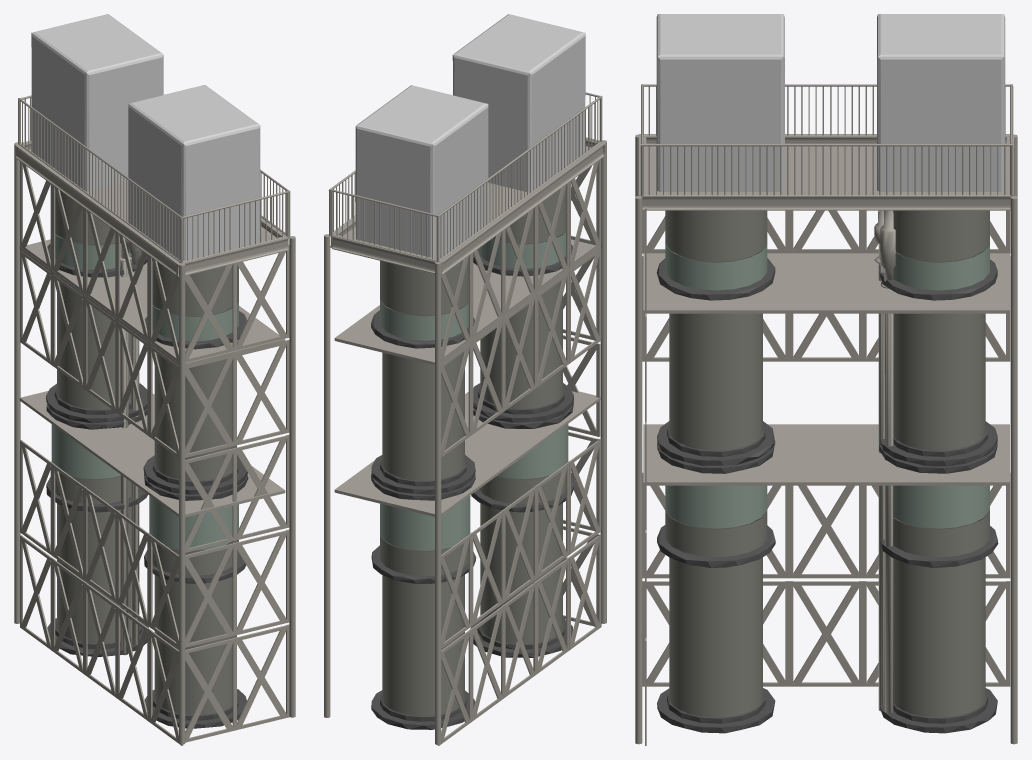
Rendered from large_industrial_tower.fbx.
3 renders of one model, left to right at view 1: azimuth 30°, elevation 25°; view 2: azimuth 150°, elevation 25°; view 3: azimuth 270°, elevation 25°, orthographic. The views are drawn at different scales.
Visible parts, largest first — view 1: large_industrial_tower; view 2: large_industrial_tower; view 3: large_industrial_tower.
Boxes of the visible parts, x1,y1,x2,y2 form: large_industrial_tower: (14,14,295,745); large_industrial_tower: (324,14,606,745); large_industrial_tower: (635,14,1017,745).
Bounding box in the file's own units: 247 × 1203 × 615.
